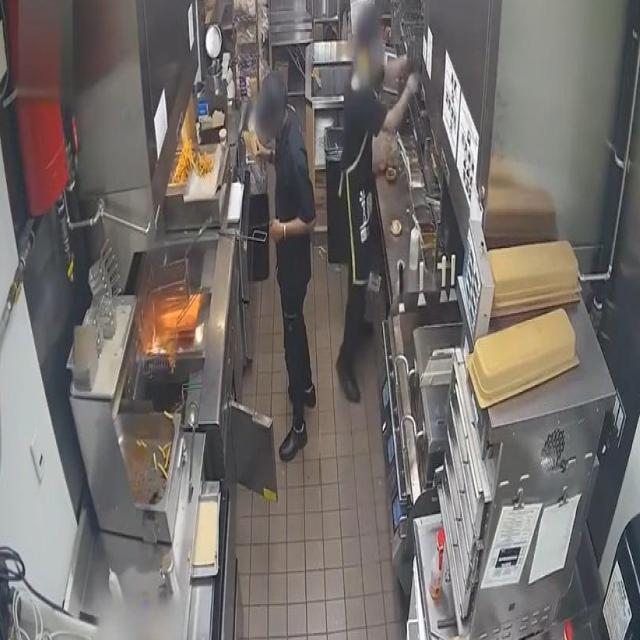smoke: (144, 321, 171, 356)
